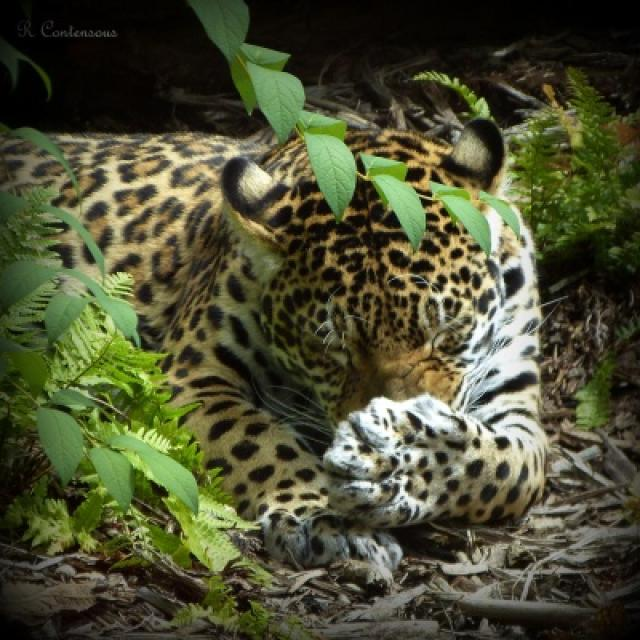Jaguar: (0, 67, 550, 587)
